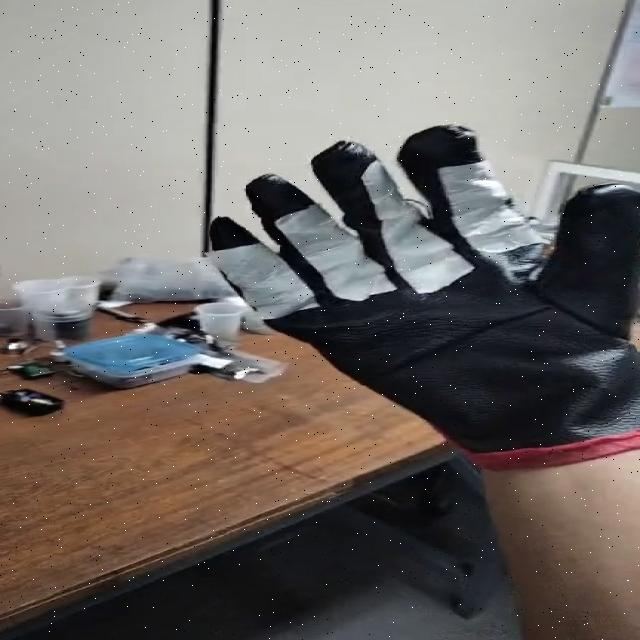Gloves: (203, 118, 640, 454)
